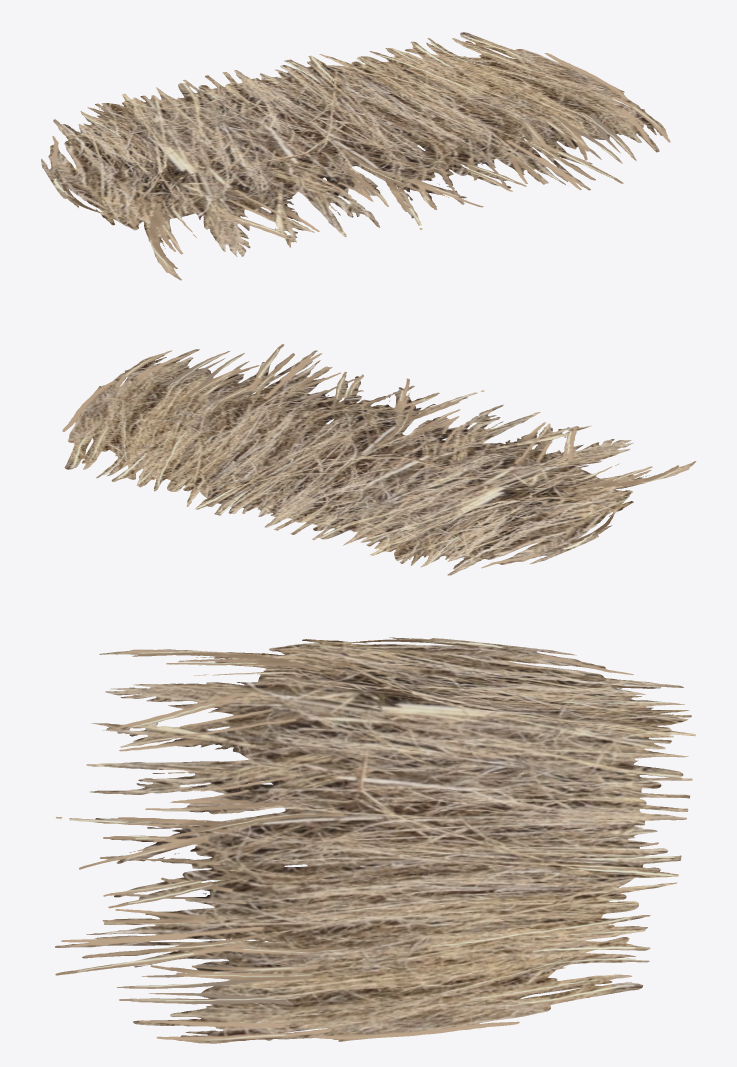
Rendered from jov_rice_rag00a.fbx.
The picture shows the model from 3 angles, top to bottom: view 1: azimuth 30°, elevation 25°; view 2: azimuth 150°, elevation 25°; view 3: azimuth 270°, elevation 25°; orthographic projection. The views are drawn at different scales.
Visible parts, largest first — view 1: jov_rice_rag00a; view 2: jov_rice_rag00a; view 3: jov_rice_rag00a.
Boxes of the visible parts, x1=… form: jov_rice_rag00a: x1=41, y1=32, x2=670, y2=280; jov_rice_rag00a: x1=62, y1=344, x2=696, y2=575; jov_rice_rag00a: x1=55, y1=637, x2=695, y2=1043.
Size of the model in its own units: 141 by 5.06 by 98.96.
